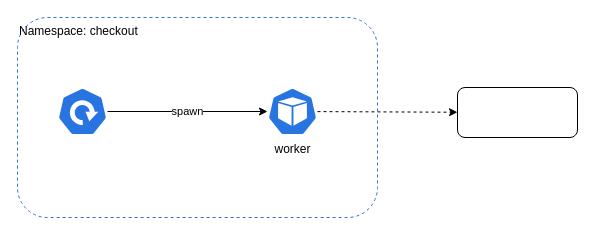
Some shapes in this 595 by 235 pixel diagram are drawn without their labels. The shapes that lost their labels are listed below. From the top down, each one's centre as x and y in pixels, then its label:
the point at 82,111: checkout
the point at 517,112: RabbitMQ jobs
